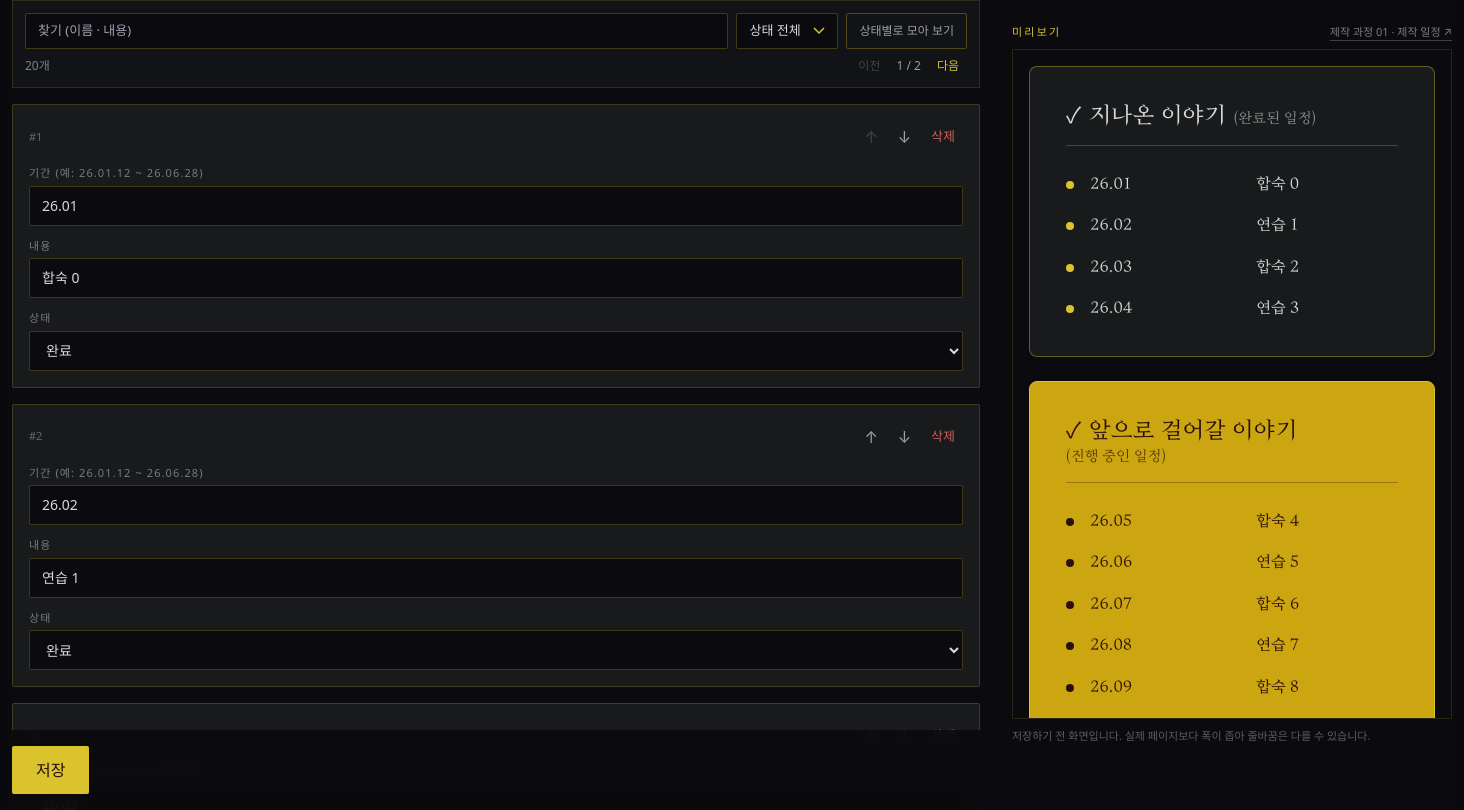
Scenario: ListEditor — 찾기·거르기·페이지 › 안 보이는 행도 저장에 그대로 들어간다 — 여기가 제일 위험한 곳이다
Select "예정" in the dropdown named "상태로 거르기" at (787, 31), box [736, 13, 838, 49]
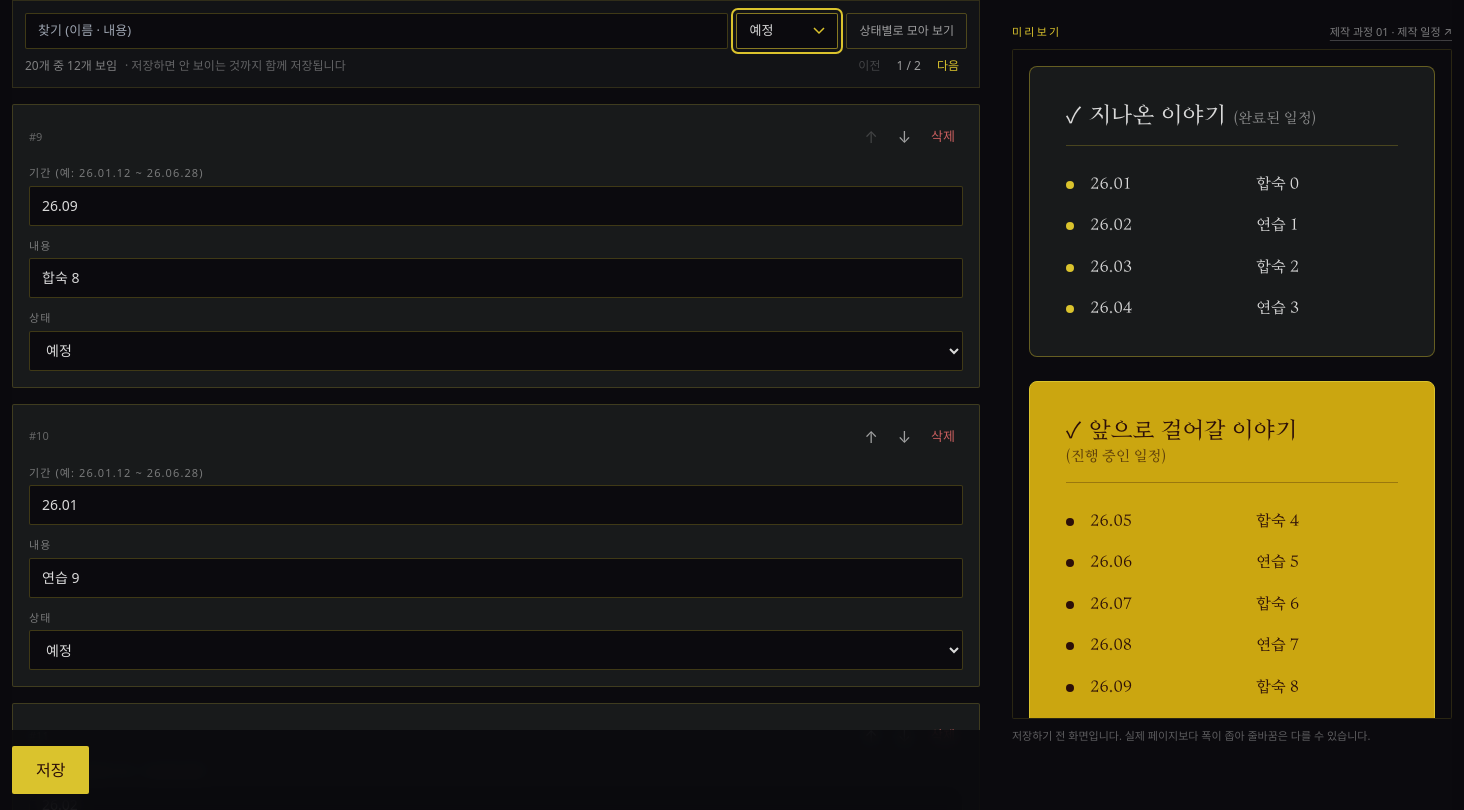
Expected: the text "20개 중 12개 보임· 저장하면 안 보이는 것까지 함께 저장됩니다" is shown, [25, 57, 346, 75]
Expected: the text "· 저장하면 안 보이는 것까지 함께 저장됩니다" is shown, [125, 57, 346, 74]
